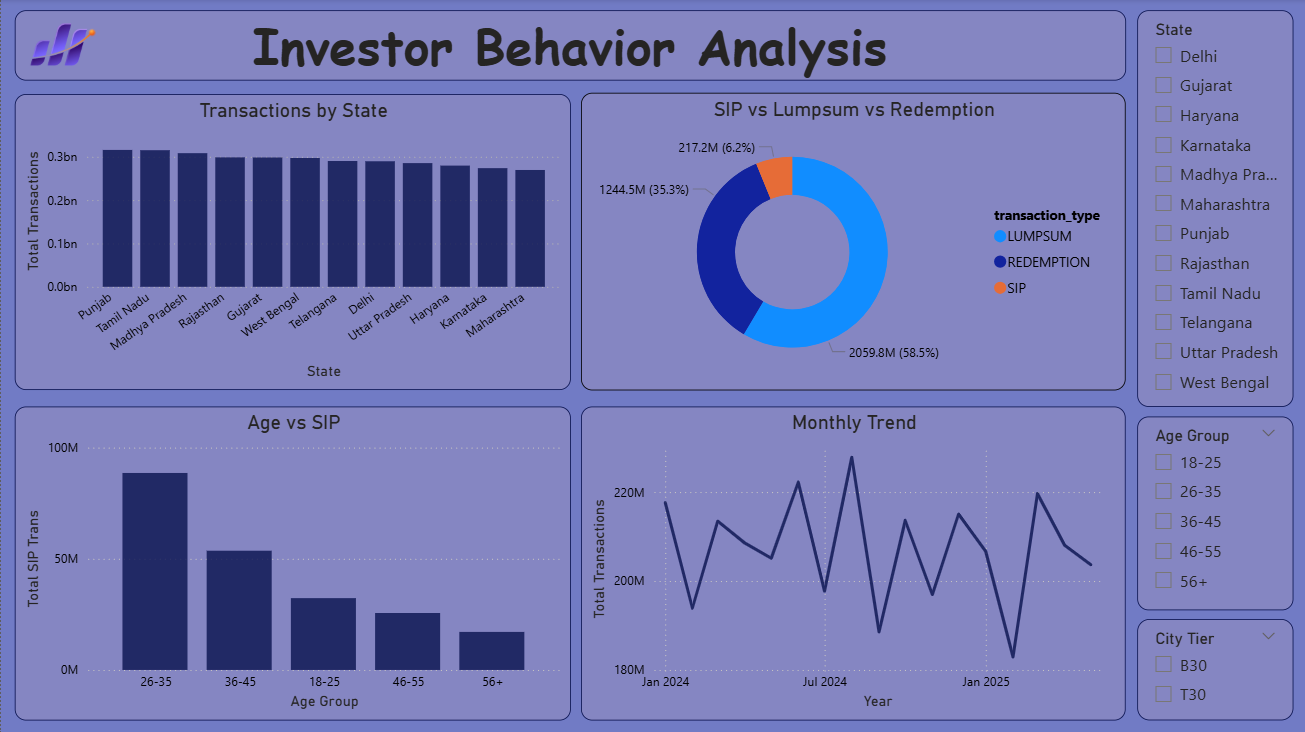

What the dashboard file says about the page in this screenshot:
{"tool":"powerbi","page":{"name":"Investor Analytics","canvas":[1280,720],"ordinal":2},"visuals":[{"type":"clusteredColumnChart","title":"Transactions by State","fields":{"Category":["08_investor_transactions.state"],"Y":["08_investor_transactions.Total Transactions"]},"box":[13.5,92.9,544.2,289.8],"z":0},{"type":"donutChart","title":"SIP vs Lumpsum vs Redemption","fields":{"Category":["08_investor_transactions.transaction_type"],"Y":["Sum(08_investor_transactions.amount_inr)"]},"box":[567.4,91.7,533.2,291],"z":1000},{"type":"clusteredColumnChart","title":"Age vs SIP","fields":{"Category":["08_investor_transactions.age_group"],"Y":["08_investor_transactions.Total SIP Trans"]},"box":[13.5,398.6,544.2,306.9],"z":2000},{"type":"lineChart","title":"Monthly Trend","fields":{"Category":["date.Date.Variation.Date Hierarchy.Year","date.Date.Variation.Date Hierarchy.Month"],"Y":["08_investor_transactions.Total Transactions"]},"box":[567.4,398.6,533.2,306.9],"z":3000},{"type":"slicer","fields":{"Values":["08_investor_transactions.state"]},"box":[1111.6,11,152.9,387.6],"z":4000},{"type":"slicer","fields":{"Values":["08_investor_transactions.age_group"]},"box":[1111.6,408.4,152.9,189.5],"z":5000},{"type":"slicer","fields":{"Values":["08_investor_transactions.city_tier"]},"box":[1111.6,606.5,152.9,99],"z":6000},{"type":"textbox","box":[13.5,11,1087.1,68.5],"z":7000},{"type":"image","box":[13.5,1.2,91.7,86.8],"z":7001}]}

Visuals, with their boxes in screenshot pixels (x1, y1, x2, y2), scaled from the page's 1280x720 canvas onto the 1305x732 screenshot:
"Transactions by State" clusteredColumnChart: [x1=14, y1=94, x2=569, y2=389]
"SIP vs Lumpsum vs Redemption" donutChart: [x1=578, y1=93, x2=1122, y2=389]
"Age vs SIP" clusteredColumnChart: [x1=14, y1=405, x2=569, y2=717]
"Monthly Trend" lineChart: [x1=578, y1=405, x2=1122, y2=717]
slicer - 08_investor_transactions.state: [x1=1133, y1=11, x2=1289, y2=405]
slicer - 08_investor_transactions.age_group: [x1=1133, y1=415, x2=1289, y2=608]
slicer - 08_investor_transactions.city_tier: [x1=1133, y1=617, x2=1289, y2=717]
textbox: [x1=14, y1=11, x2=1122, y2=81]
image: [x1=14, y1=1, x2=107, y2=89]
